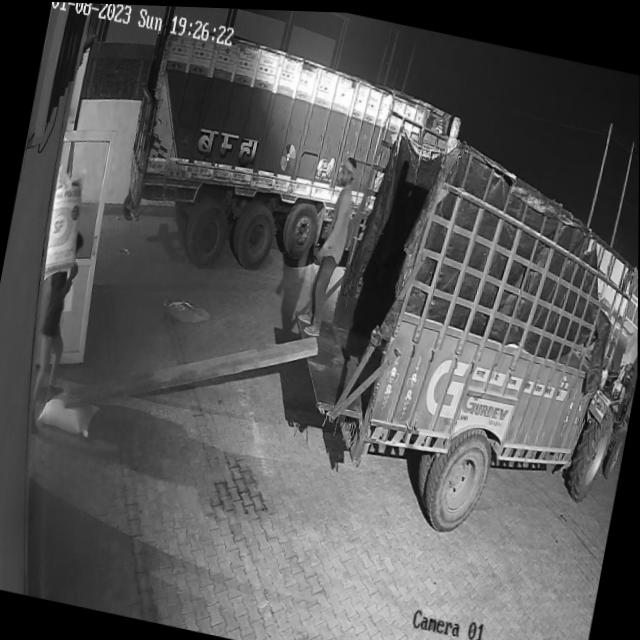sack: (39, 167, 92, 285), (37, 387, 100, 437)
